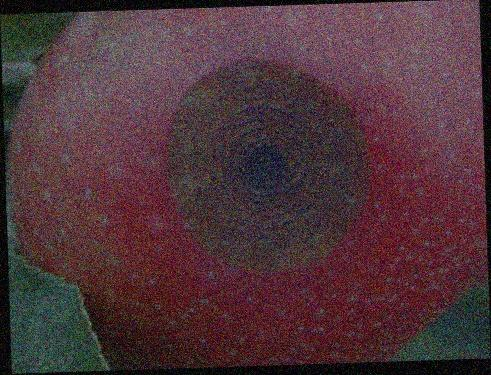rotten apple: (6, 6, 485, 366)
